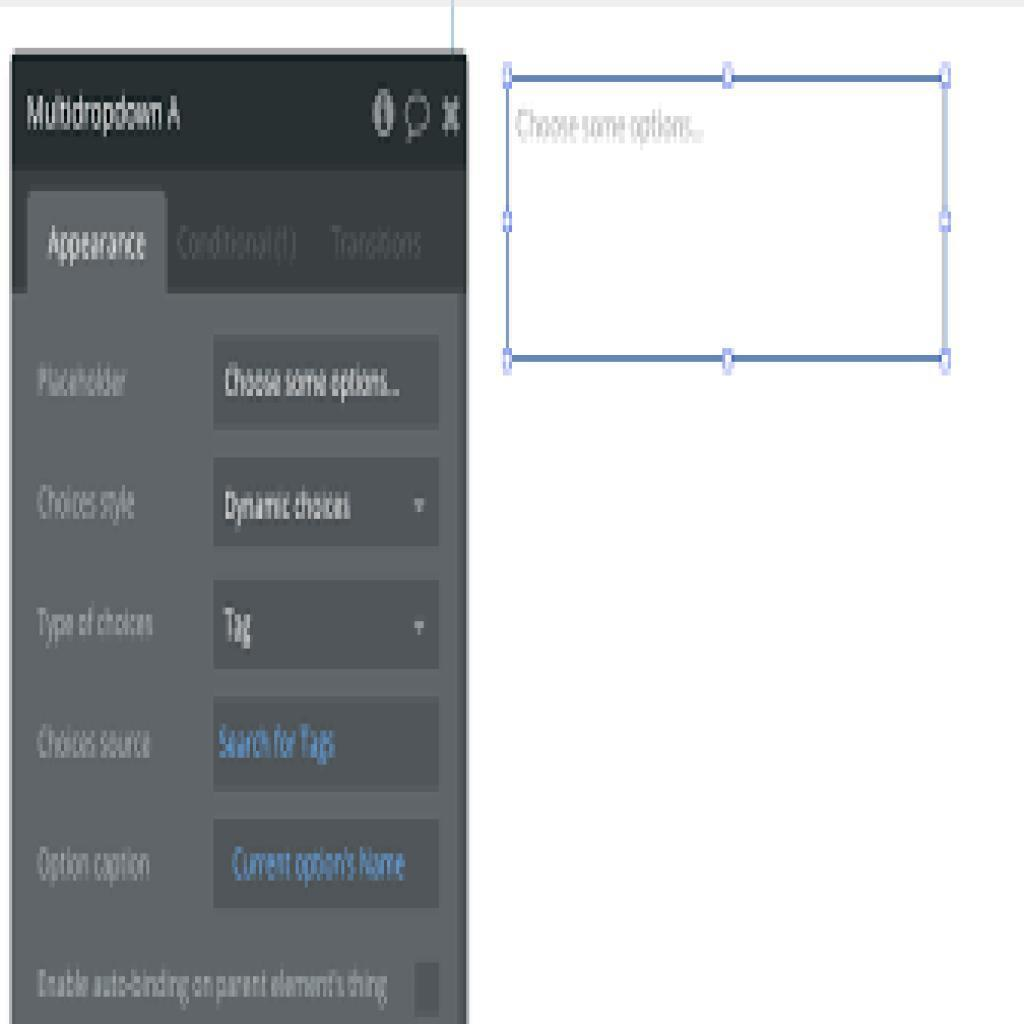button: (28, 192, 166, 290)
checkbox: (412, 960, 443, 1020)
dropdown: (213, 584, 436, 675), (219, 454, 434, 547)
icon: (368, 90, 400, 141), (405, 90, 434, 144), (444, 98, 461, 137)
input: (215, 334, 438, 426), (212, 822, 442, 911), (215, 698, 436, 789)
